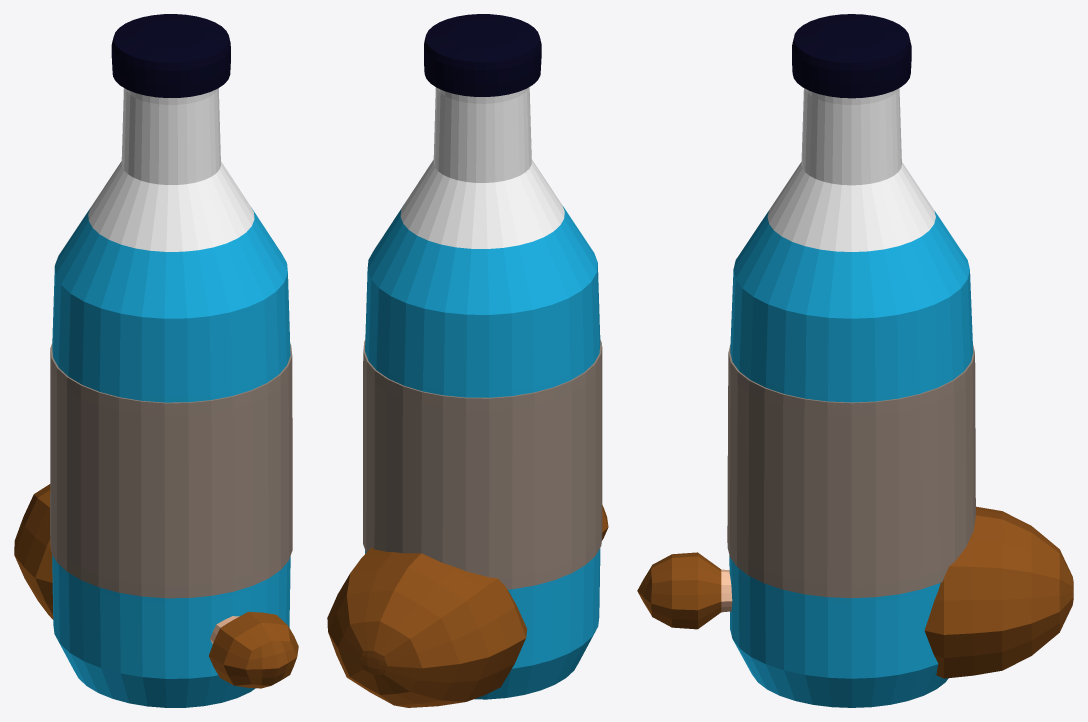
The model's file is Usables.fbx.
3 renders of one model, left to right at view 1: azimuth 30°, elevation 25°; view 2: azimuth 150°, elevation 25°; view 3: azimuth 270°, elevation 25°, orthographic.
Visible parts, largest first — view 1: Water bottle cap, Chicken wing; view 2: Water bottle cap, Chicken wing; view 3: Water bottle cap, Chicken wing.
Part boxes in pixels (x1,y1,x2,y2): Water bottle cap: [50, 14, 292, 707]; Chicken wing: [14, 484, 298, 688]; Water bottle cap: [363, 14, 602, 699]; Chicken wing: [327, 505, 608, 707]; Water bottle cap: [727, 14, 975, 707]; Chicken wing: [637, 506, 1073, 678].
Size of the model in its own units: 6.93 by 20.1 by 12.53.
